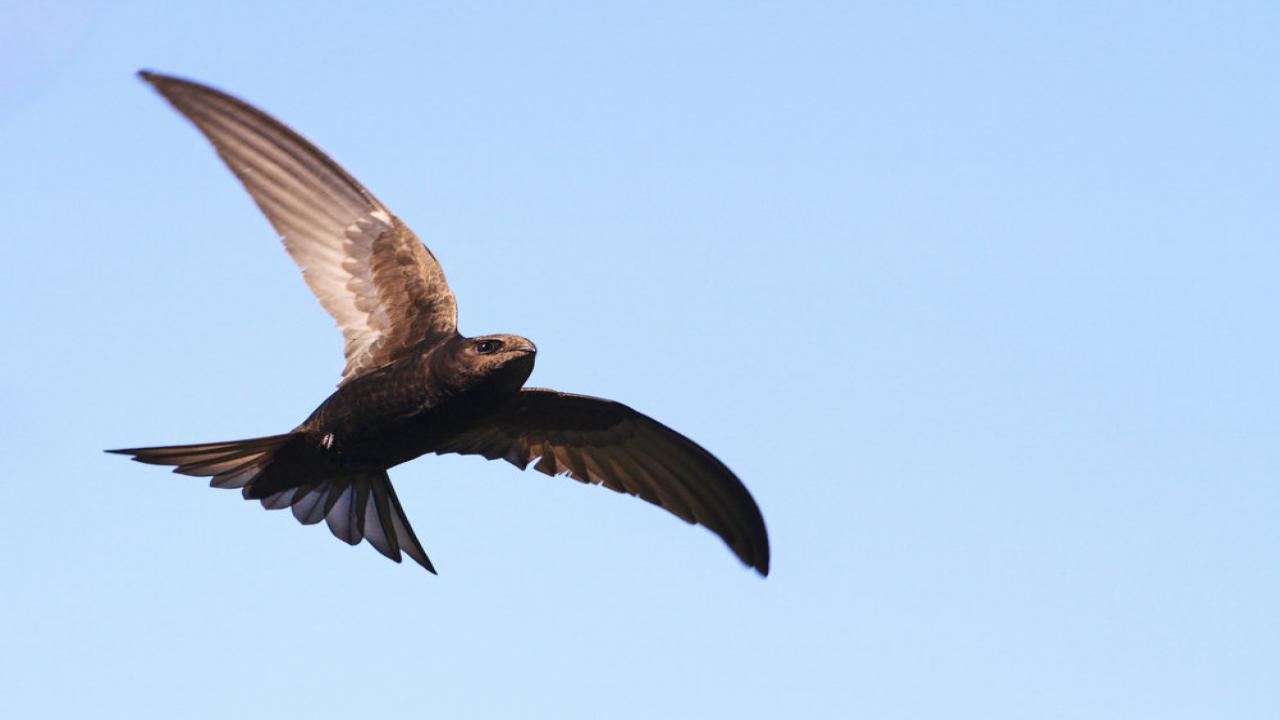Bird: (88, 59, 789, 606)
